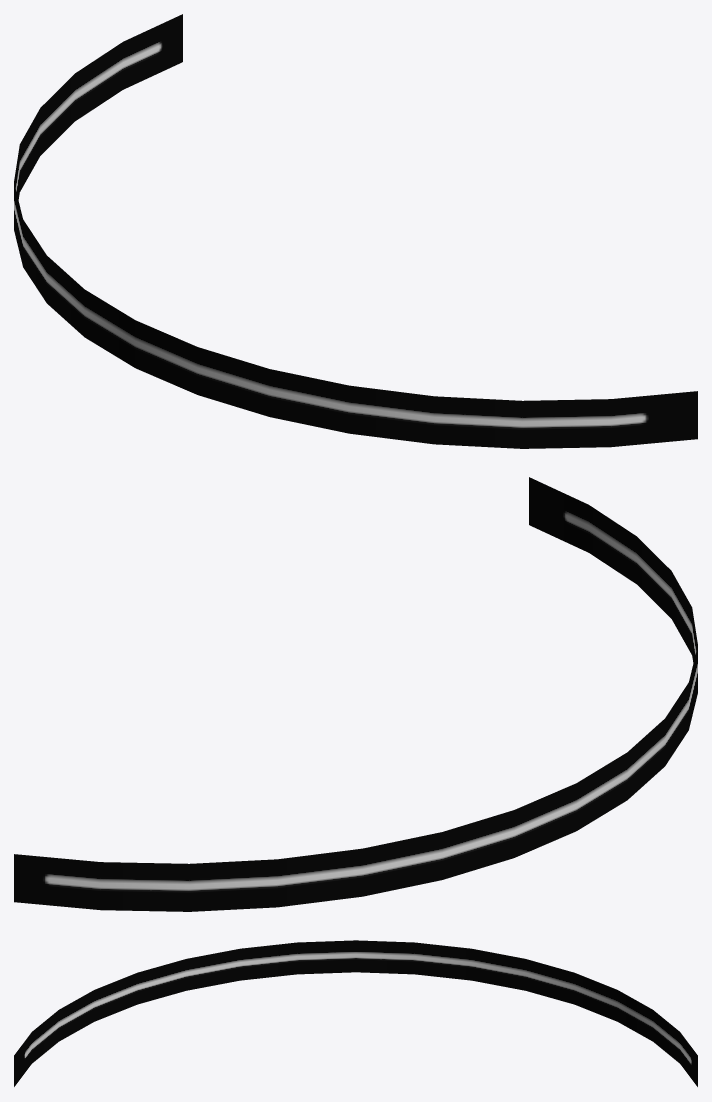
The model's file is SM_line_Round_4.fbx.
3 views of the same model, one above another, from view 1: azimuth 30°, elevation 25°; view 2: azimuth 150°, elevation 25°; view 3: azimuth 270°, elevation 25° (orthographic). The views are drawn at different scales.
Parts seen in each view (by area): view 1: SM_line_Round_4; view 2: SM_line_Round_4; view 3: SM_line_Round_4.
Part boxes in pixels (left/top/right/bottom): SM_line_Round_4: left=14, top=14, right=697, bottom=448; SM_line_Round_4: left=14, top=477, right=697, bottom=911; SM_line_Round_4: left=14, top=940, right=697, bottom=1086.
Bounding box in the file's own units: 87.52 × 11.31 × 219.
